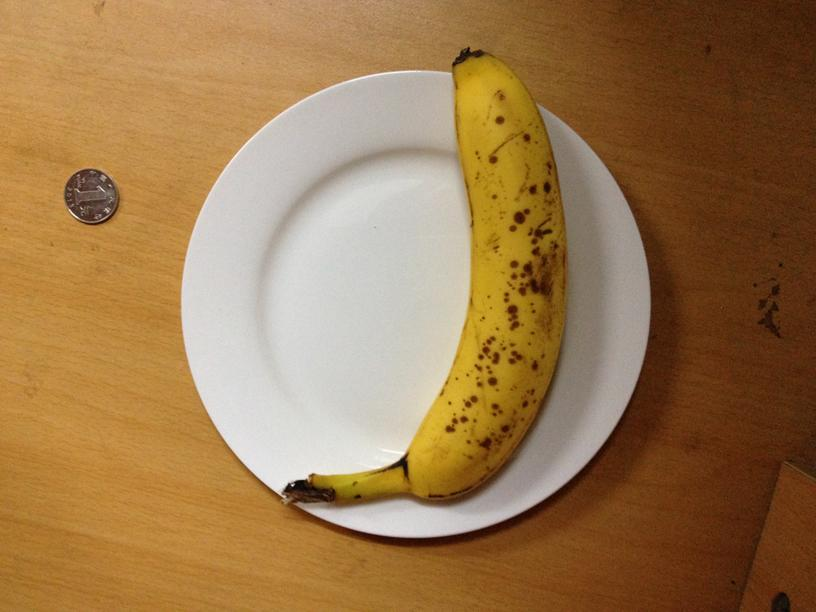banana: (306, 50, 569, 503)
coin: (62, 166, 119, 224)
